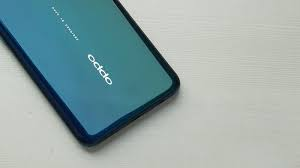oppo: (1, 1, 182, 151)
